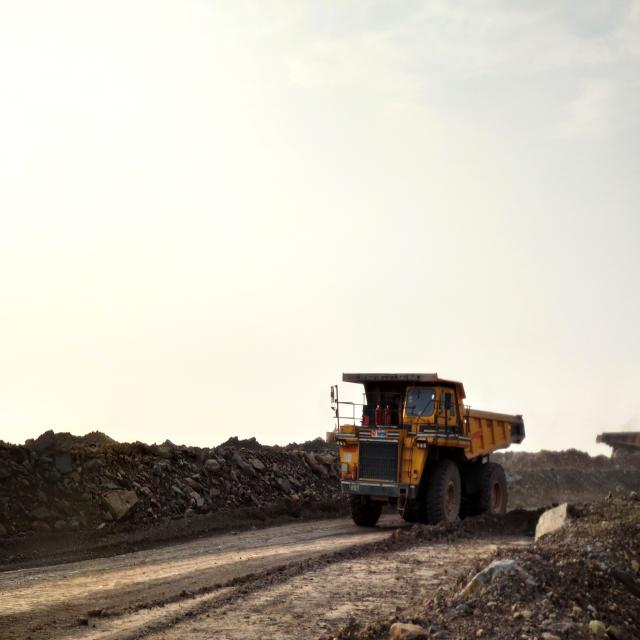dump_truck: (331, 373, 525, 525)
